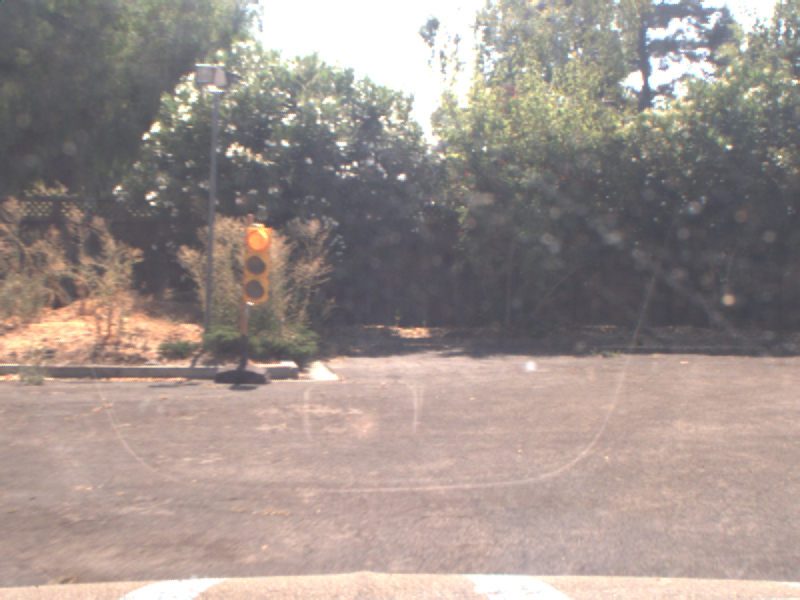red: (241, 222, 269, 307)
